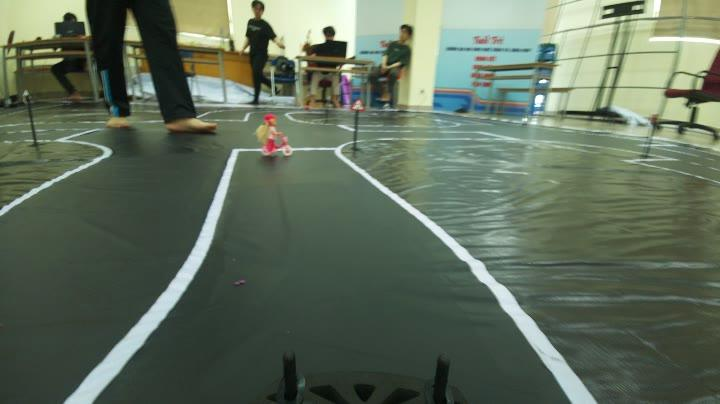pedestrian: (257, 113, 297, 161)
